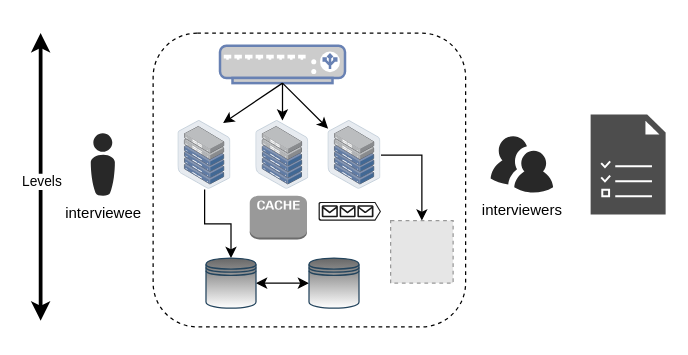
Some shapes in this 688 by 355 pixel diagram are drawn without their labels. Grey dashed boxes stand in for pictures. The shapes that lost their labels are listed below. From the top down, each one's centre as x and y in pixels, then its label:
At (x=627, y=164): "scorecard".
At (x=349, y=210): "Queue".
